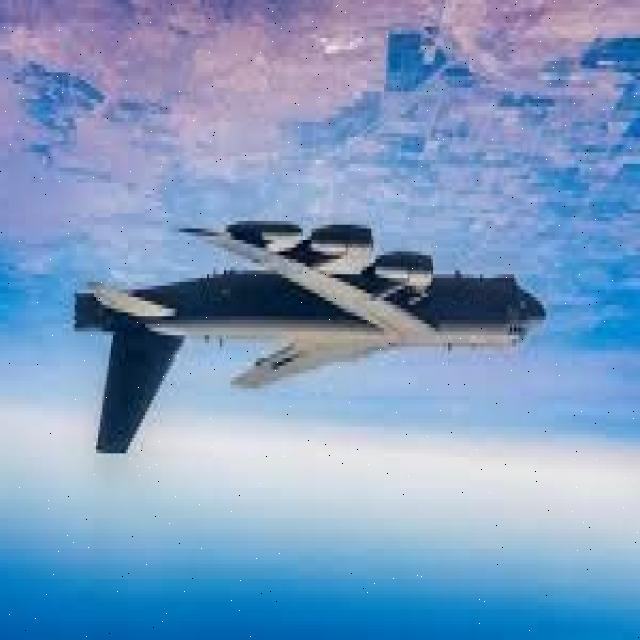B1: (40, 200, 556, 476)
